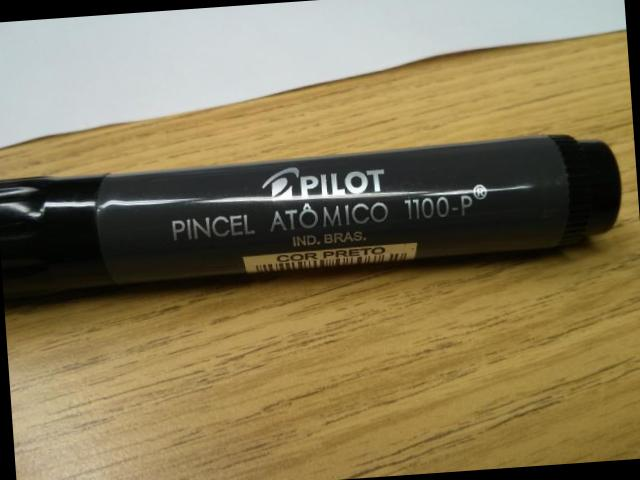PEN: (0, 124, 634, 313)
